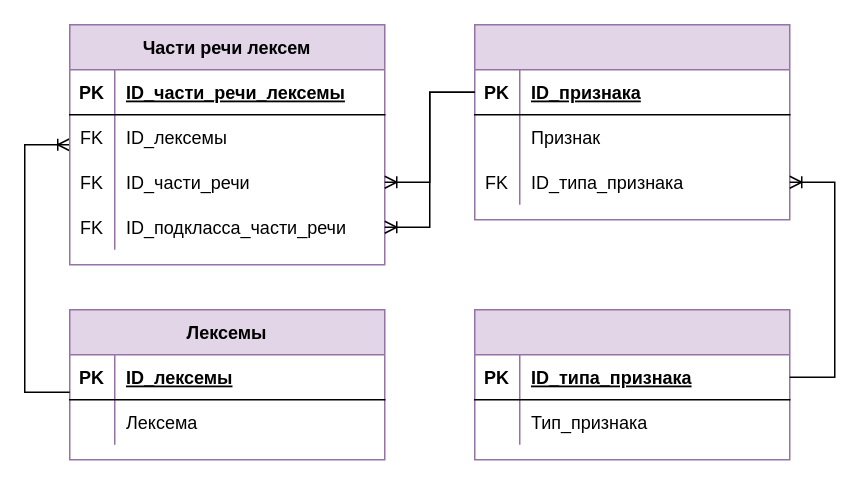
Some shapes in this 860 by 485 pixel diagram are drawn without their labels. The box of each missing label's shape, as (x1, y1, x2, y2) in pixels:
Морфологические признаки: (473, 23, 790, 220)
Типы морф. признаков: (473, 308, 790, 460)
